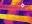Hotspot: (0, 14, 31, 23), (11, 0, 21, 6)
